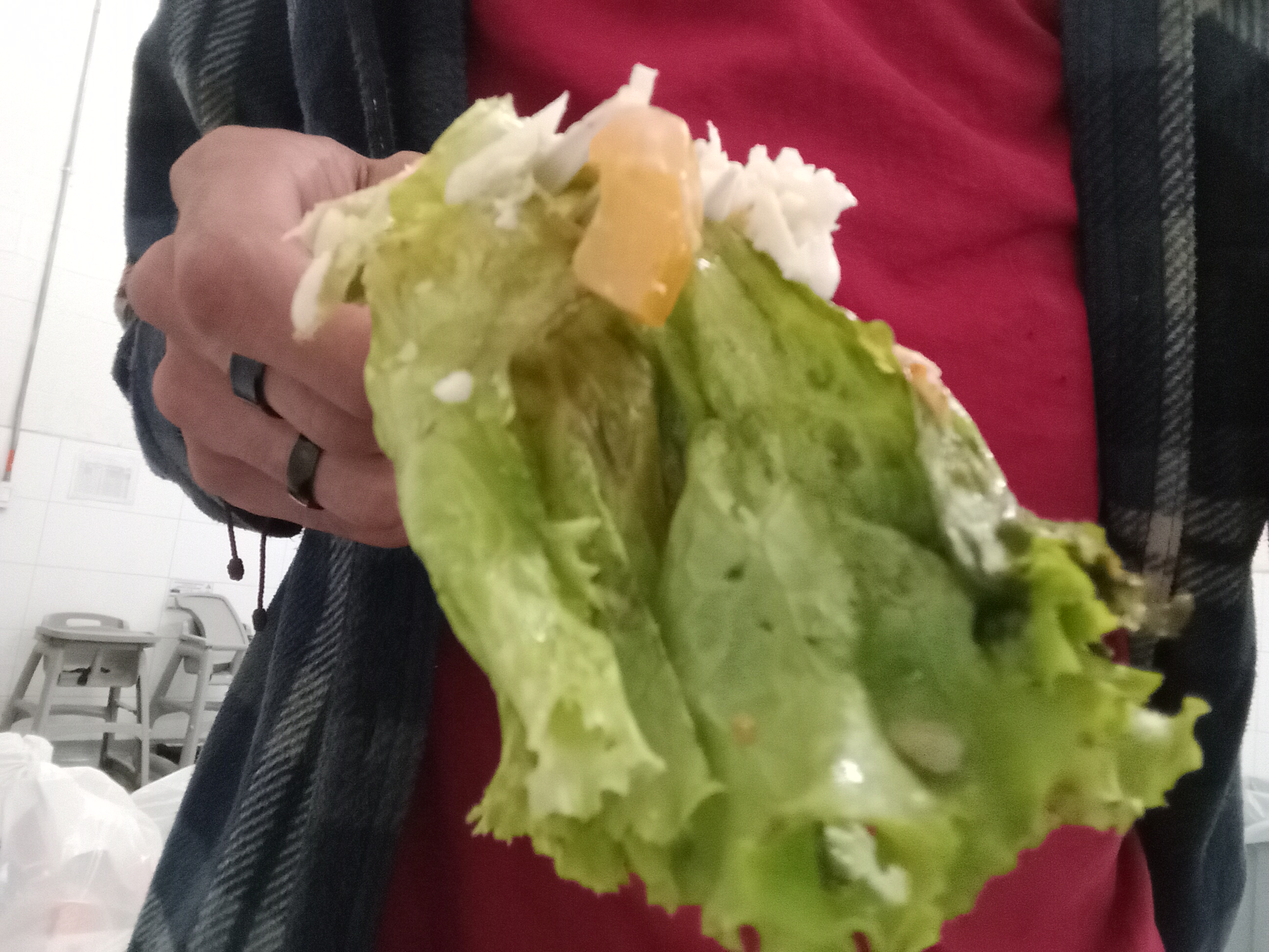Organico: (287, 64, 1211, 952)
